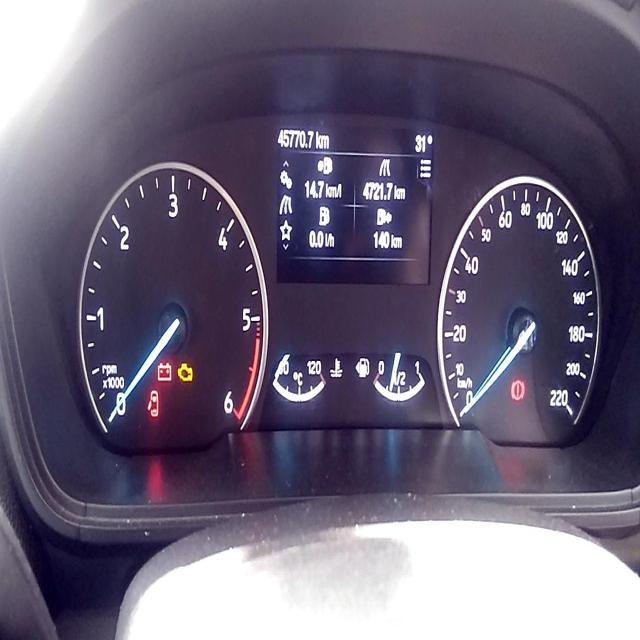odometer: (277, 125, 315, 151)
